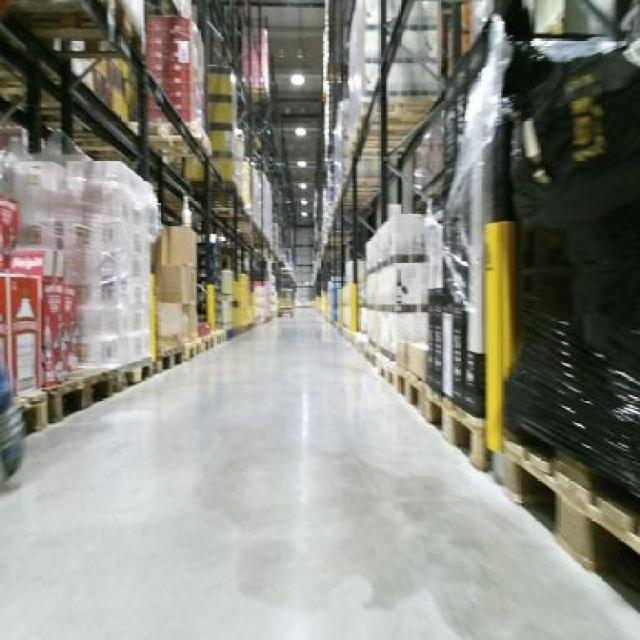floor: (0, 311, 637, 637)
